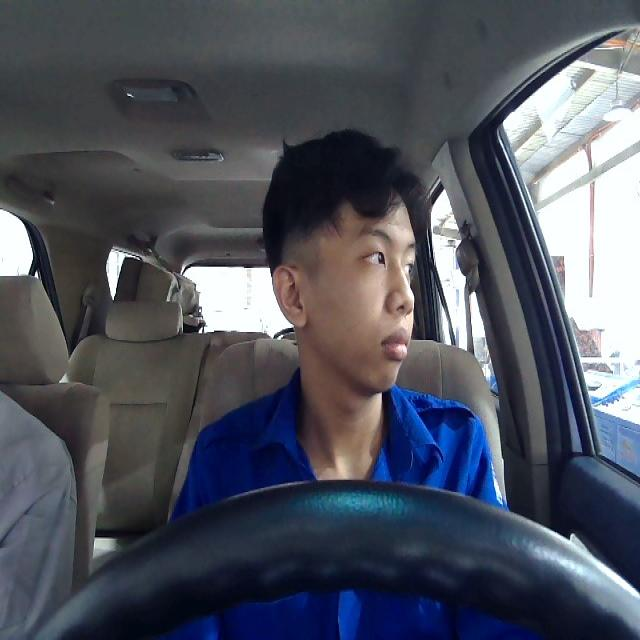seeing_right: (269, 186, 417, 394)
